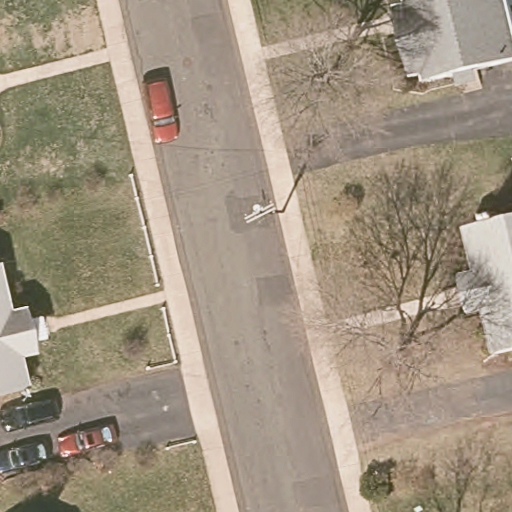DT: (244, 200, 286, 226)
